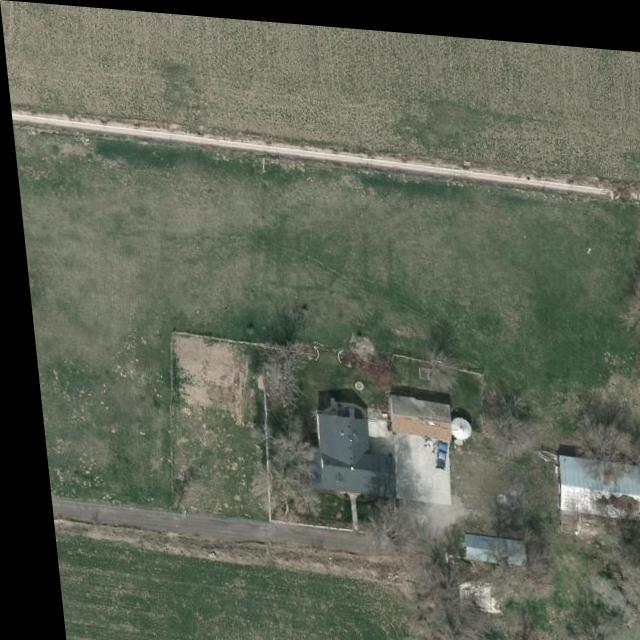vehicle: (423, 434, 442, 465)
